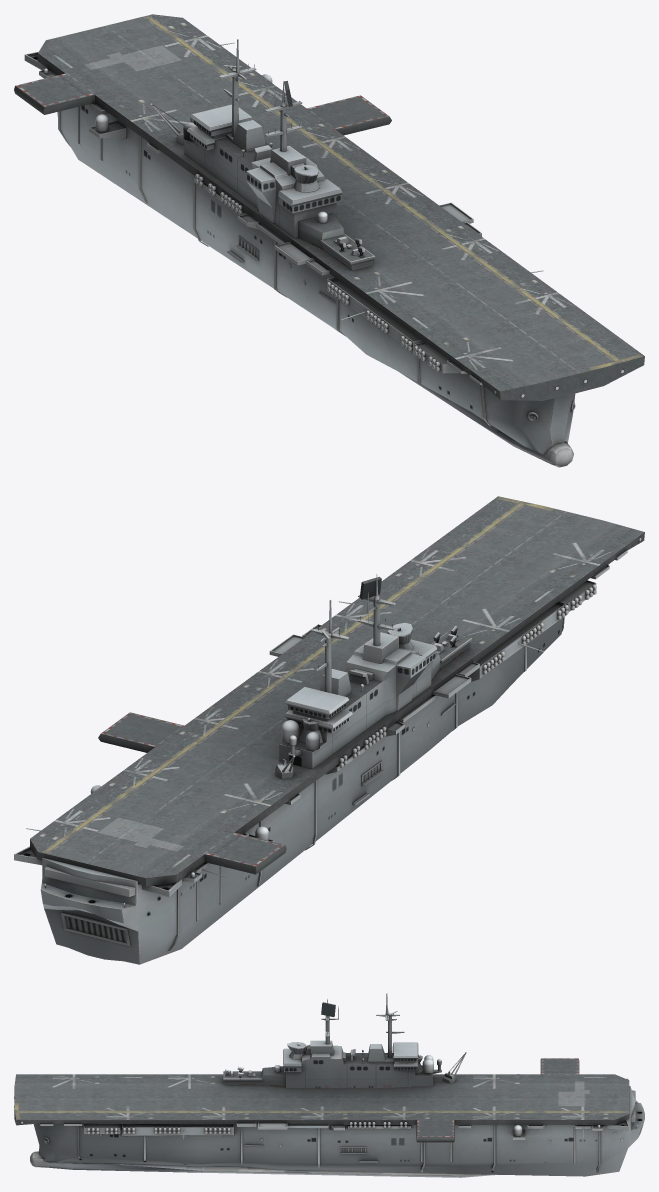
3 renders of one model, top to bottom at view 1: azimuth 30°, elevation 25°; view 2: azimuth 150°, elevation 25°; view 3: azimuth 270°, elevation 25°, orthographic. The views are drawn at different scales.
Parts seen in each view (by area): view 1: Object_2; view 2: Object_2; view 3: Object_2.
Part boxes in pixels (x1,y1,x2,y2): Object_2: (14, 14, 644, 467); Object_2: (14, 496, 644, 964); Object_2: (14, 993, 644, 1177).
Bounding box in the file's own units: 2.34 × 2.19 × 7.82.
Materials: 1 (1 with a texture image).
